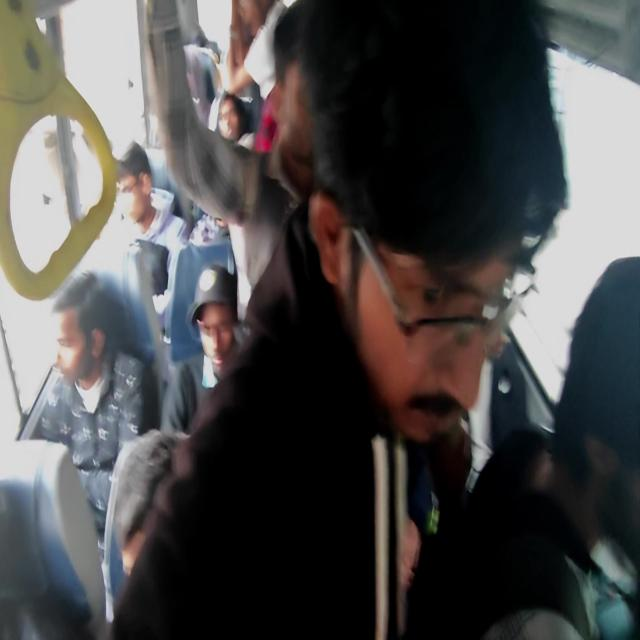person: (355, 221, 519, 451), (560, 261, 640, 470), (110, 428, 185, 582), (166, 235, 236, 367), (50, 269, 113, 392), (115, 141, 182, 256), (206, 93, 257, 243), (221, 0, 280, 112), (115, 140, 152, 182), (185, 54, 208, 112), (186, 27, 221, 64)
